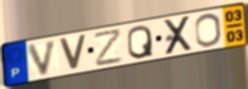O: (193, 12, 224, 49)
Q: (126, 23, 155, 60)
V: (26, 38, 60, 78), (57, 34, 89, 71)
X: (162, 14, 195, 57)
Z: (93, 26, 124, 68)
